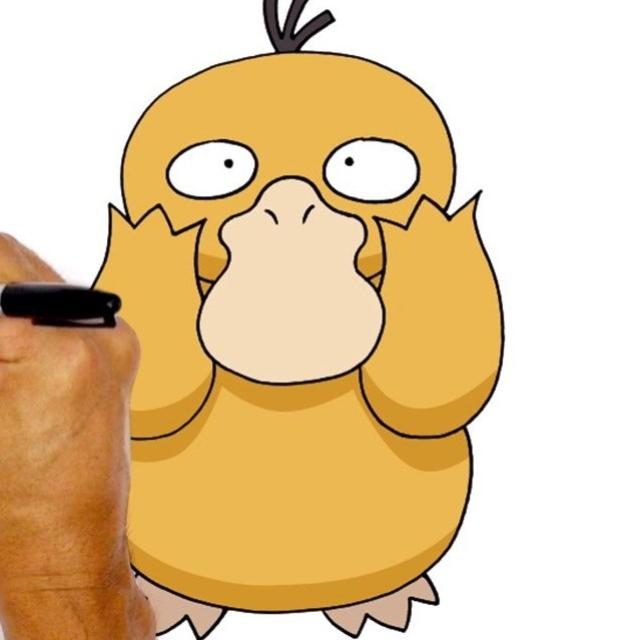Psyduck: (113, 49, 485, 626)
